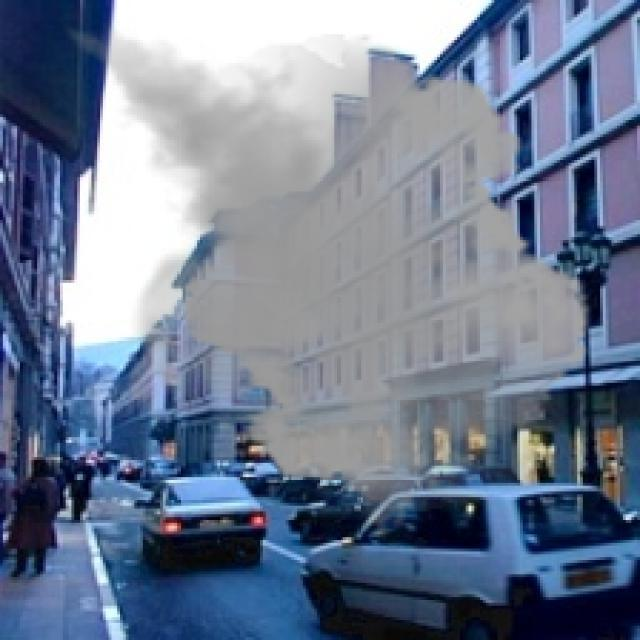Smoke: (37, 14, 606, 540)
